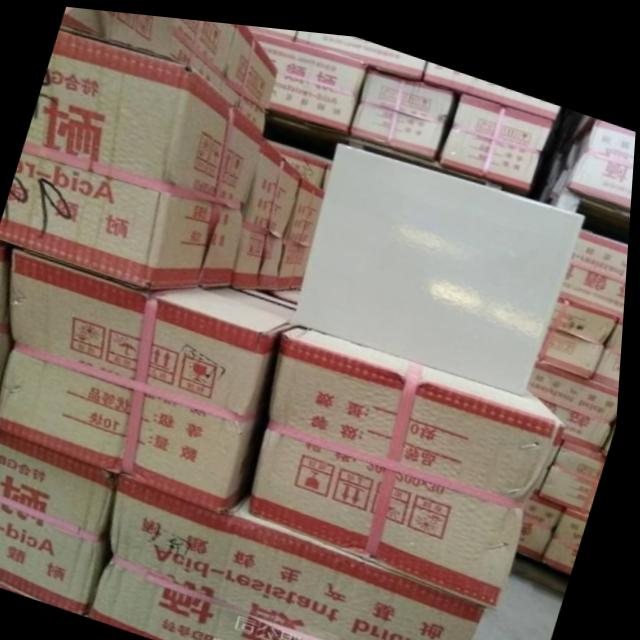box: (246, 319, 571, 599), (0, 246, 299, 509), (298, 133, 586, 385), (0, 21, 267, 283), (94, 472, 492, 640), (0, 430, 122, 614), (252, 28, 370, 123), (438, 83, 553, 180), (234, 134, 302, 283), (352, 59, 461, 149), (424, 50, 559, 112), (539, 282, 623, 366), (219, 19, 279, 129), (292, 24, 425, 72), (567, 104, 637, 195), (561, 214, 631, 304), (531, 349, 623, 409), (165, 14, 238, 89), (540, 424, 611, 499), (283, 168, 326, 282), (61, 5, 169, 50), (545, 386, 614, 438), (547, 493, 595, 560), (525, 482, 572, 548), (206, 281, 301, 312), (269, 133, 329, 181), (0, 242, 15, 398), (598, 302, 627, 375), (0, 575, 66, 605), (244, 20, 294, 36), (264, 277, 304, 295)
